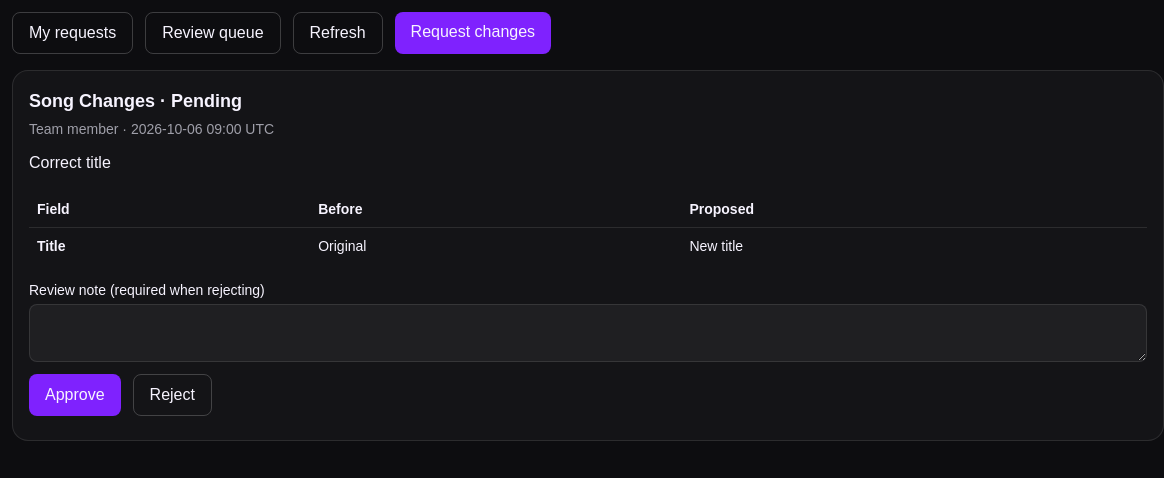
Test: retains the review reason when a decision rejects
Type "Please include the artist" into the text box labelled "Review note (required when rejecting)".
click(588, 333); type("Please include the artist")  # box [29,304,1147,362]
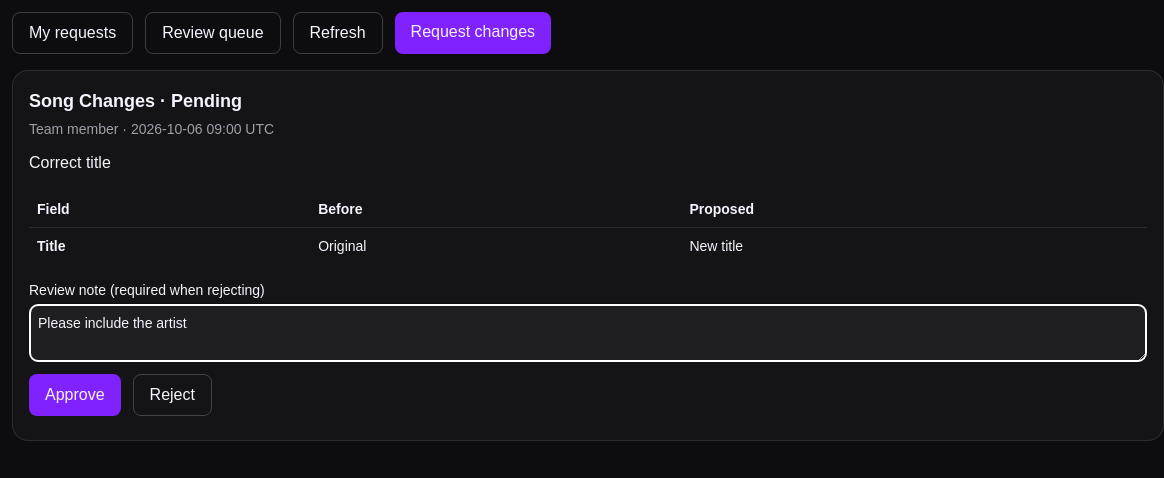
Click the button "Reject".
click(172, 395)  # box [133,374,212,416]
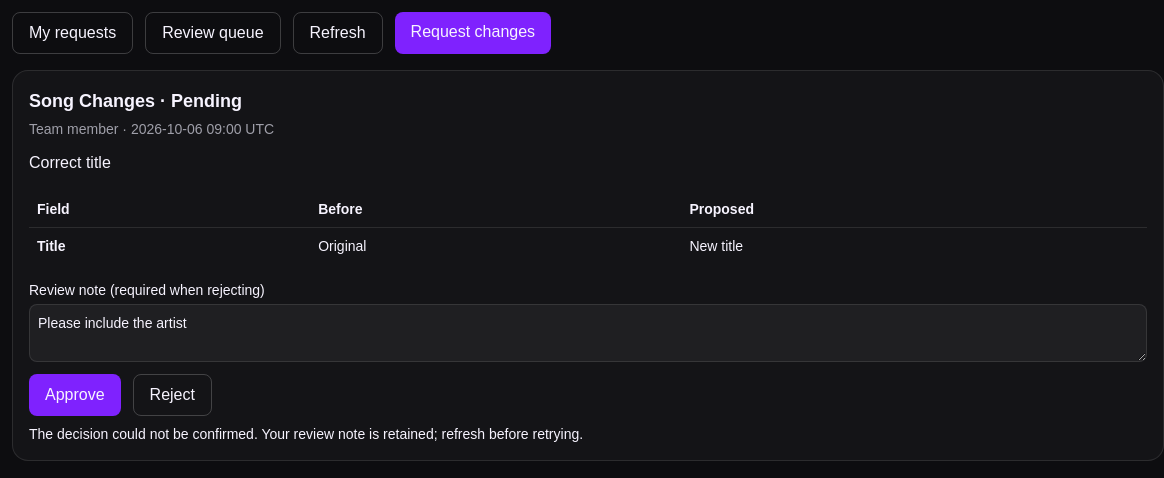
Result: the text "The decision could not be confirmed" is shown at [29,426,583,442]
